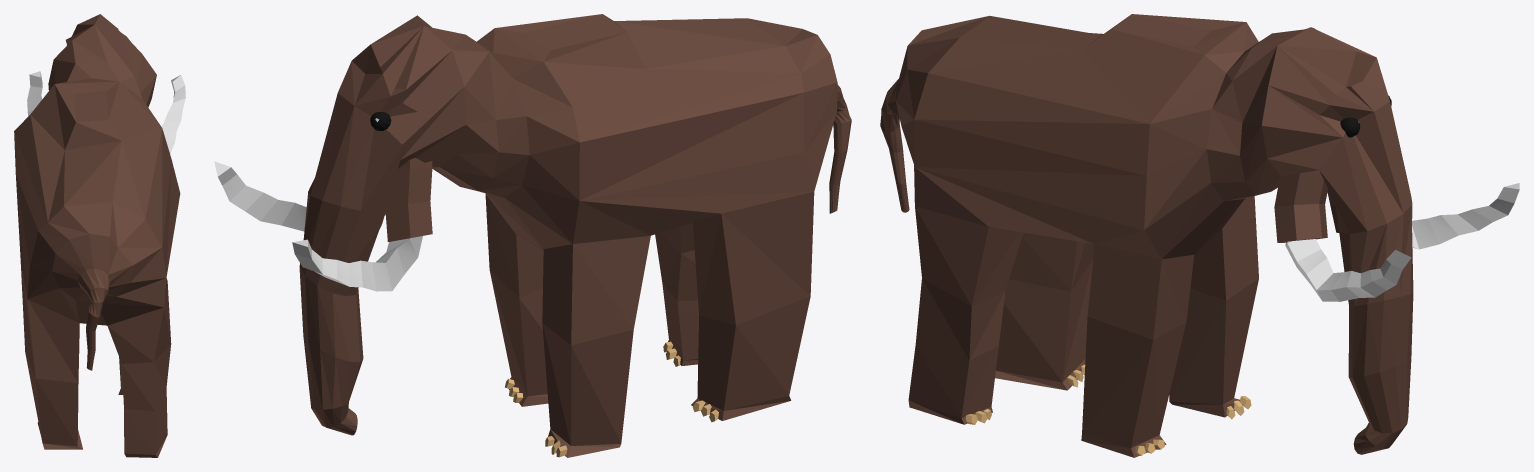
The picture shows the model from 3 angles, left to right: view 1: azimuth 30°, elevation 25°; view 2: azimuth 150°, elevation 25°; view 3: azimuth 270°, elevation 25°; orthographic projection. The views are drawn at different scales.
Visible parts, largest first — view 1: node_MeshObject429421888-PolyPaper23; view 2: node_MeshObject429421888-PolyPaper23; view 3: node_MeshObject429421888-PolyPaper23.
Part boxes in pixels (bbox=[...]): node_MeshObject429421888-PolyPaper23: bbox=[14, 14, 185, 457]; node_MeshObject429421888-PolyPaper23: bbox=[214, 14, 851, 457]; node_MeshObject429421888-PolyPaper23: bbox=[880, 14, 1519, 457].
Size of the model in its own units: 2.19 by 2.23 by 2.95.
